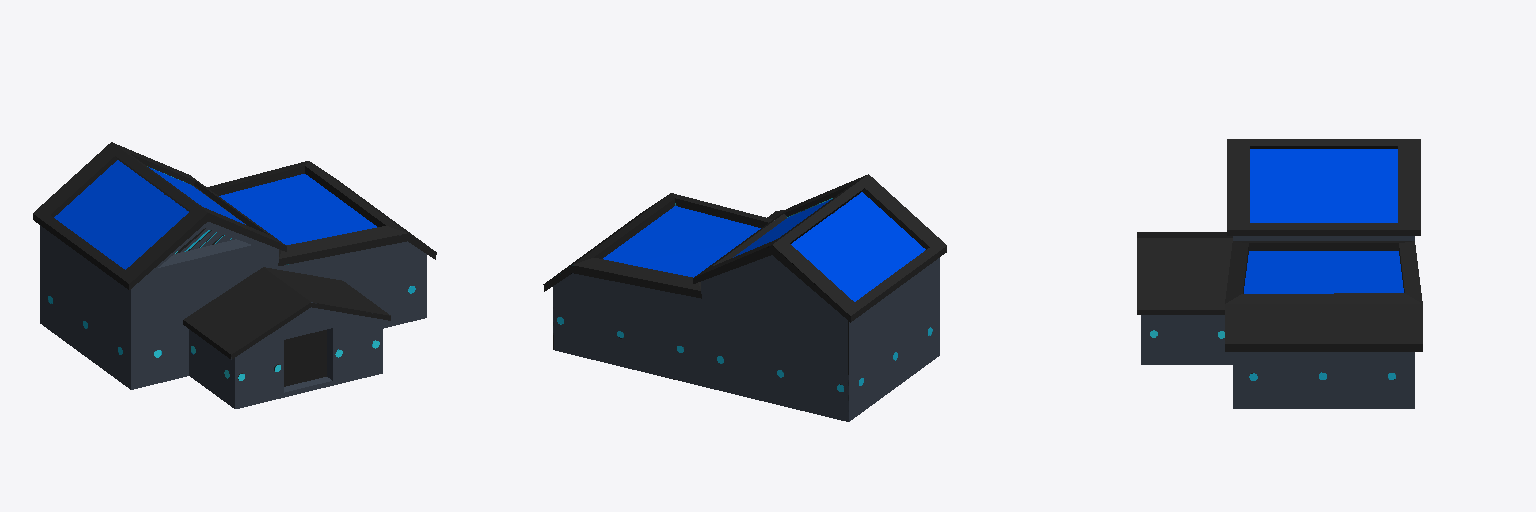
3 renders of one model, left to right at view 1: azimuth 30°, elevation 25°; view 2: azimuth 150°, elevation 25°; view 3: azimuth 270°, elevation 25°, orthographic.
Visible parts, largest first — view 1: Cylinder.001_Cylinder; view 2: Cylinder.001_Cylinder; view 3: Cylinder.001_Cylinder.
Boxes of the visible parts, box(x1,y1,x2,y2) form: Cylinder.001_Cylinder: box(33, 142, 436, 408); Cylinder.001_Cylinder: box(543, 174, 946, 421); Cylinder.001_Cylinder: box(1137, 139, 1422, 408).
Bounding box in the file's own units: 72.8 × 36.71 × 58.95.
Materials: 1 (1 with a texture image).